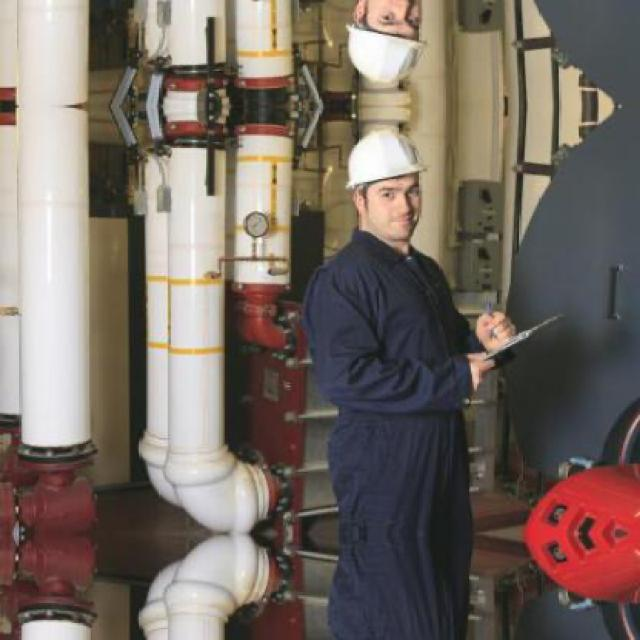con casco: (308, 143, 480, 291)
